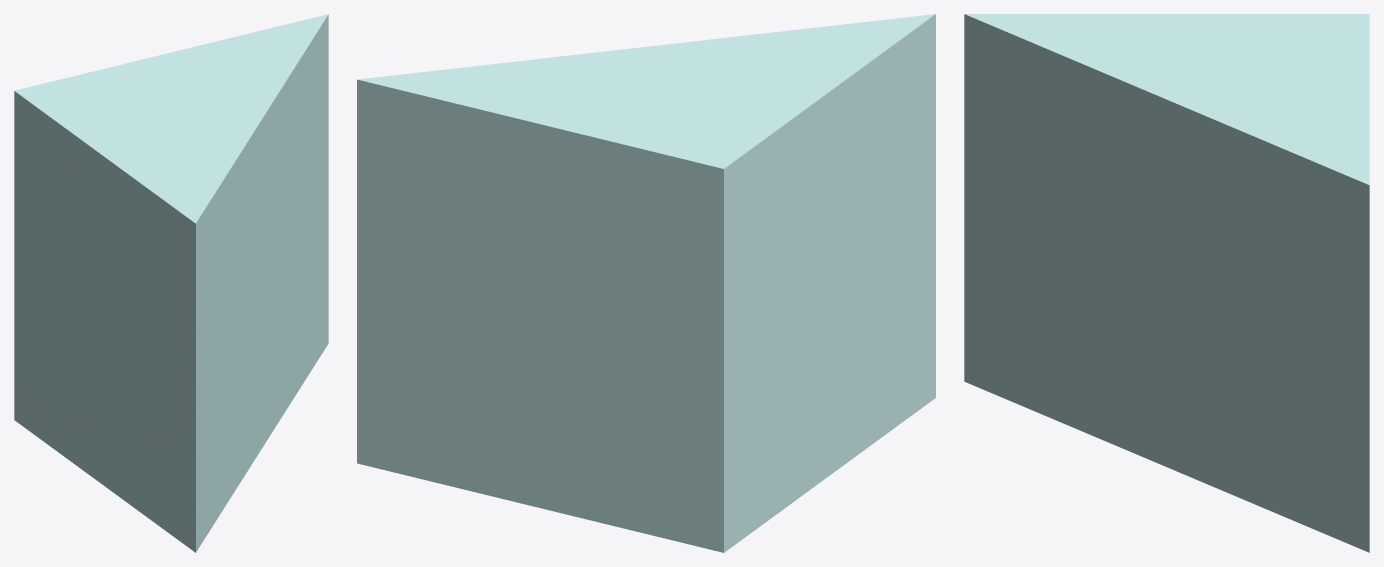
The model's file is OnOffConveyorB_VerticalSlope.glb.
3 renders of one model, left to right at view 1: azimuth 30°, elevation 25°; view 2: azimuth 150°, elevation 25°; view 3: azimuth 270°, elevation 25°, orthographic. The views are drawn at different scales.
Parts seen in each view (by area): view 1: OnOffConveyorB_VerticalSlope_body; view 2: OnOffConveyorB_VerticalSlope_body; view 3: OnOffConveyorB_VerticalSlope_body.
Part boxes in pixels (box(x1,y1,x2,y2)): OnOffConveyorB_VerticalSlope_body: box(14, 14, 328, 552); OnOffConveyorB_VerticalSlope_body: box(357, 14, 935, 552); OnOffConveyorB_VerticalSlope_body: box(964, 14, 1369, 552).
Bounding box in the file's own units: 1 × 1 × 1.
